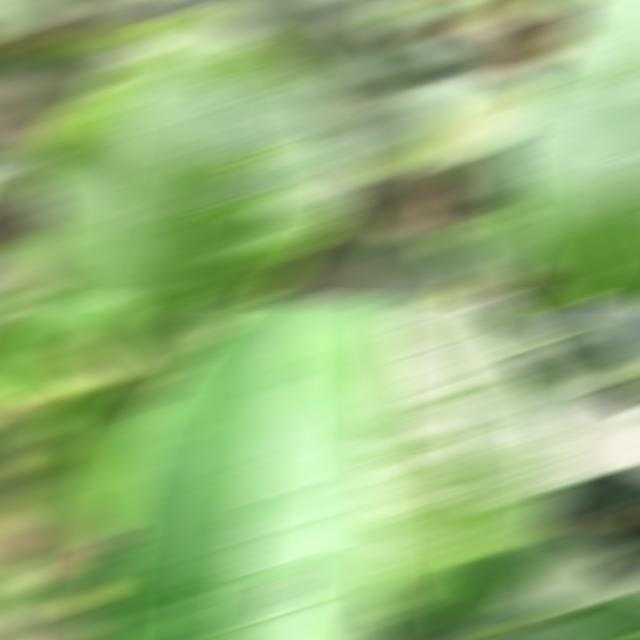Leaf: (97, 304, 395, 636), (19, 14, 357, 296), (372, 304, 571, 625), (498, 4, 640, 296), (53, 397, 159, 546), (372, 77, 541, 169), (535, 383, 640, 479), (113, 304, 195, 397), (433, 217, 547, 276), (0, 330, 86, 401), (372, 237, 469, 296), (0, 304, 111, 348), (444, 604, 595, 636), (566, 304, 640, 352), (554, 597, 640, 636), (372, 618, 453, 636), (372, 215, 411, 251)
